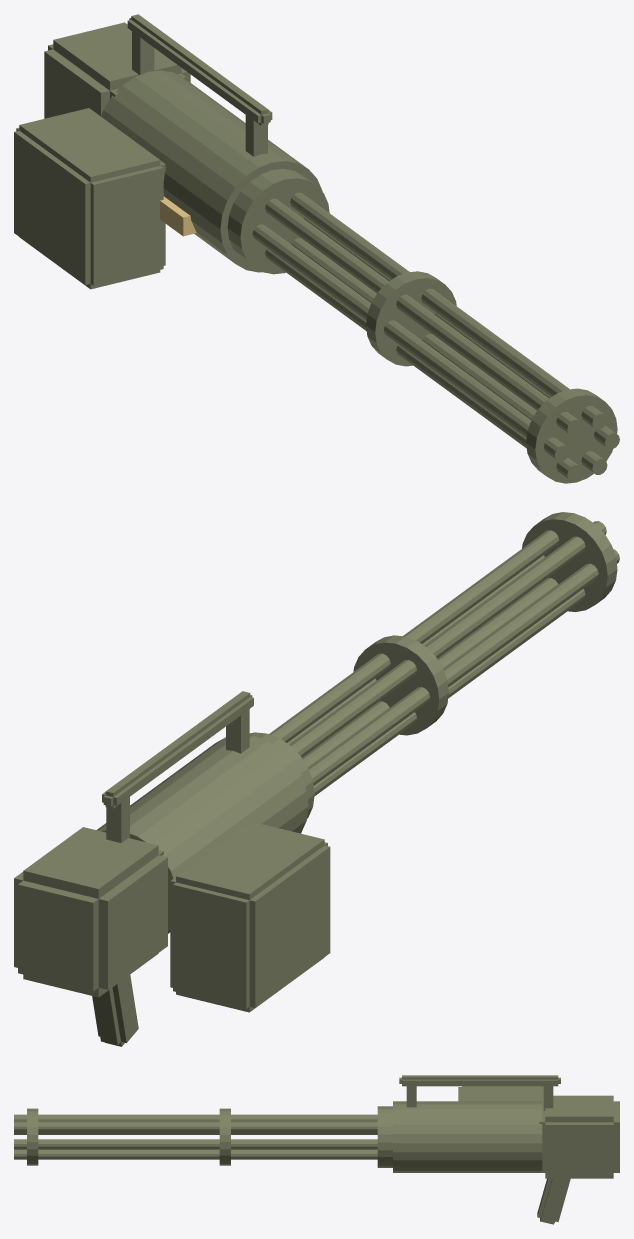
Rendered from minigun.glb.
3 renders of one model, top to bottom at view 1: azimuth 30°, elevation 25°; view 2: azimuth 150°, elevation 25°; view 3: azimuth 270°, elevation 25°, orthographic. The views are drawn at different scales.
Visible parts, largest first — view 1: minigun; view 2: minigun; view 3: minigun.
Part boxes in pixels (<box>): minigun: <box>14,14,619,483</box>; minigun: <box>14,512,619,1046</box>; minigun: <box>14,1075,619,1224</box>.
Bounding box in the file's own units: 0.203 × 0.2593 × 0.975.
